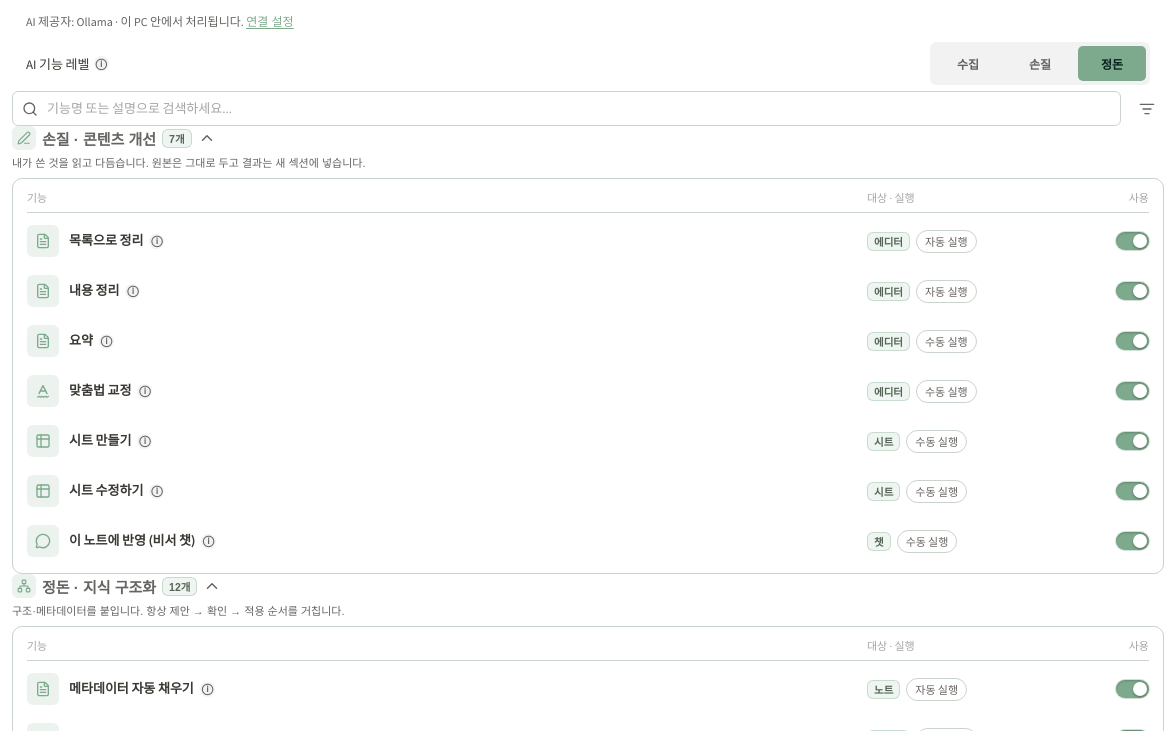
AiCapabilityCatalog — 현대적 AI 관리 센터 UI & 상호작용 › 검색칸은 표준 .field 이고, 아무것도 못 찾으면 빈 상태 한 줄을 보인다
In the search field with test id "ai-capability-search-input": (566, 108) [12, 91, 1121, 126], type "zzzz-nothing-matches"
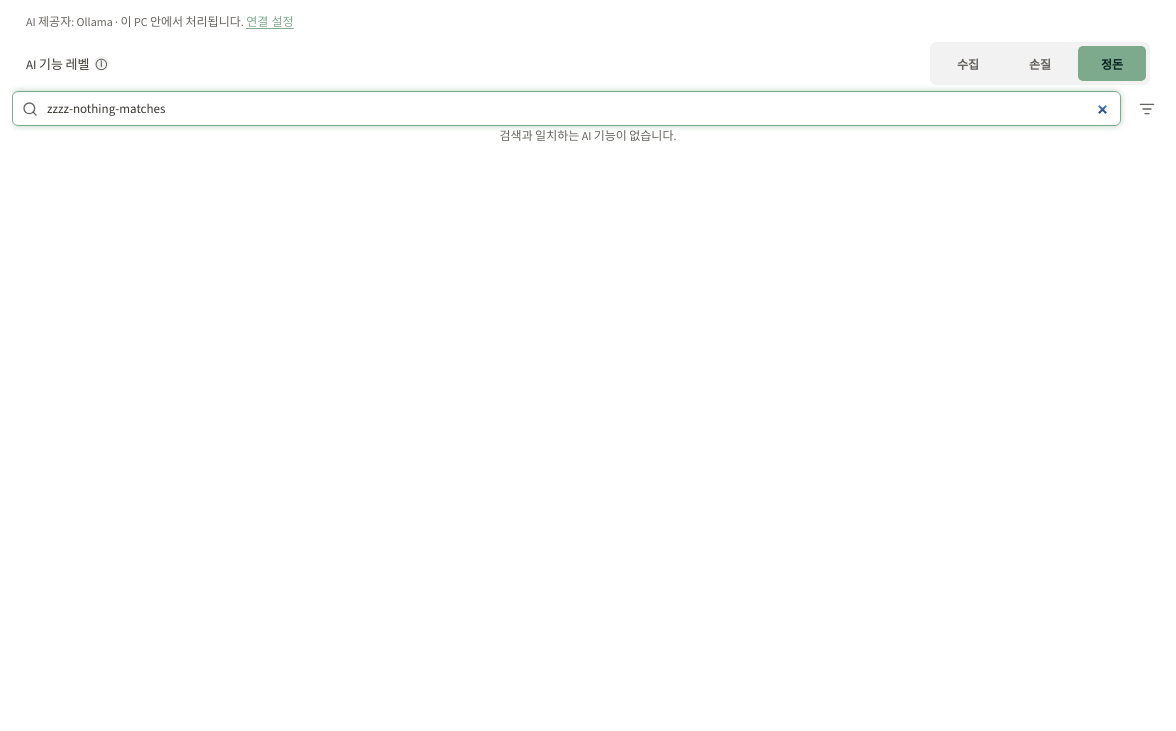
expect the message with test id "ai-capability-empty" reads "검색과 일치하는 AI 기능이 없습니다.": met, box [500, 128, 676, 144]
expect the element with test id "ai-capability-tier-refine" is gone: met
